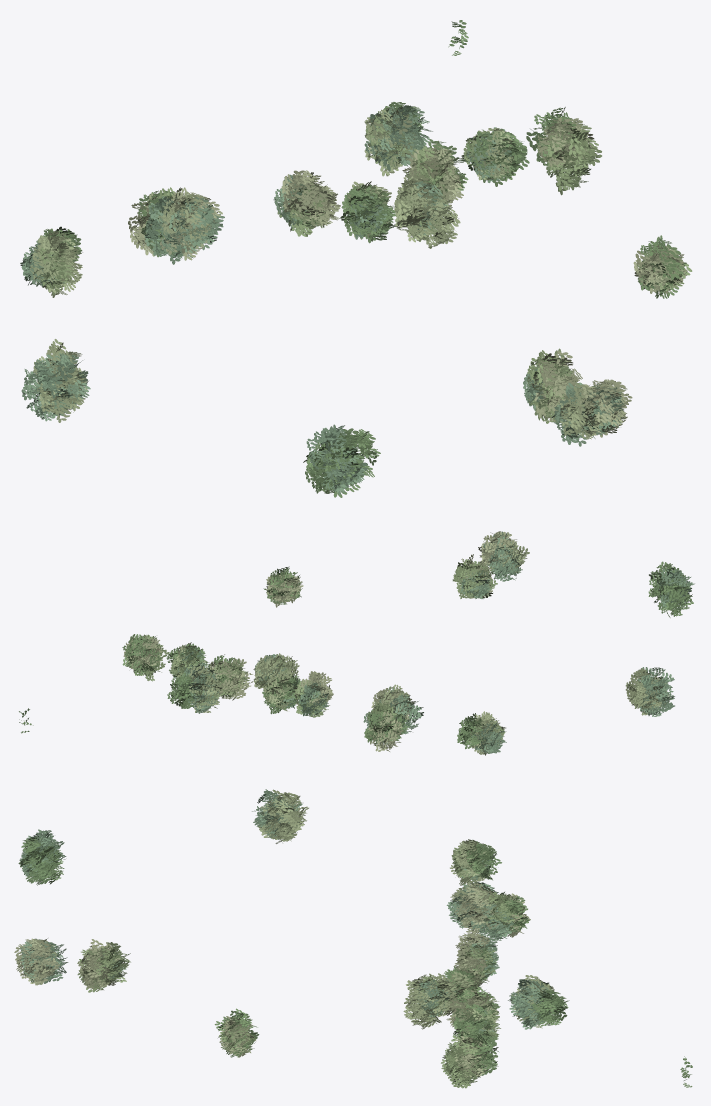
The model's file is campus-tree--1_-1-middle-photo.glb.
3 renders of one model, top to bottom at view 1: azimuth 30°, elevation 25°; view 2: azimuth 150°, elevation 25°; view 3: azimuth 270°, elevation 25°, orthographic. The views are drawn at different scales.
Parts seen in each view (by area): view 1: Campus leaf canopy; view 2: Campus leaf canopy; view 3: Campus leaf canopy.
Boxes of the visible parts, x1=… form: Campus leaf canopy: x1=20, y1=20, x2=692, y2=497; Campus leaf canopy: x1=19, y1=531, x2=694, y2=755; Campus leaf canopy: x1=14, y1=789, x2=692, y2=1088.
Bounding box in the file's own units: 62.61 × 8.22 × 67.71.
Materials: 1 (1 with a texture image).
